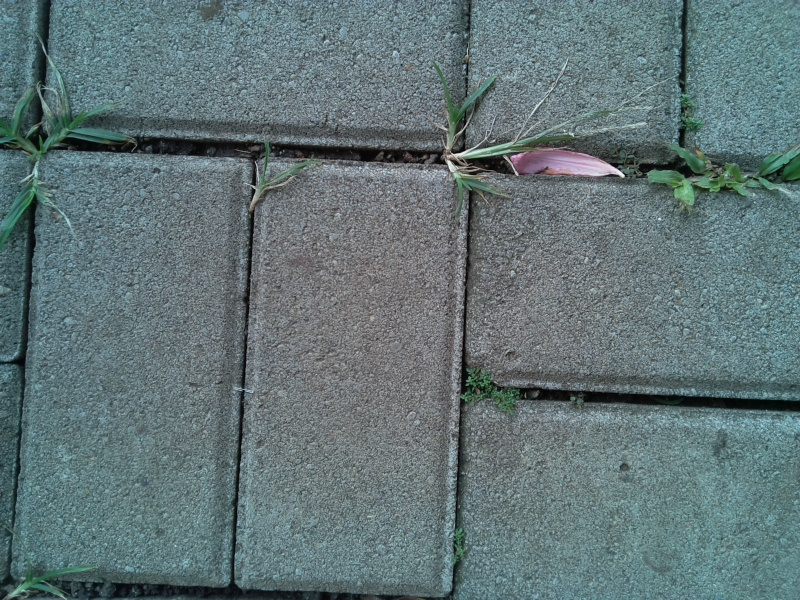Weed: (452, 87, 648, 155), (2, 60, 123, 152), (648, 146, 798, 216), (6, 155, 66, 235), (421, 68, 477, 148), (454, 364, 527, 422), (427, 143, 488, 212), (235, 152, 292, 216), (2, 565, 97, 599), (613, 152, 648, 186), (445, 521, 470, 568), (560, 383, 589, 415), (668, 114, 705, 139), (670, 88, 702, 112)
